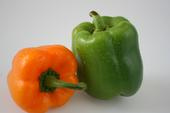capsicum: (70, 8, 145, 103), (8, 44, 84, 112)
